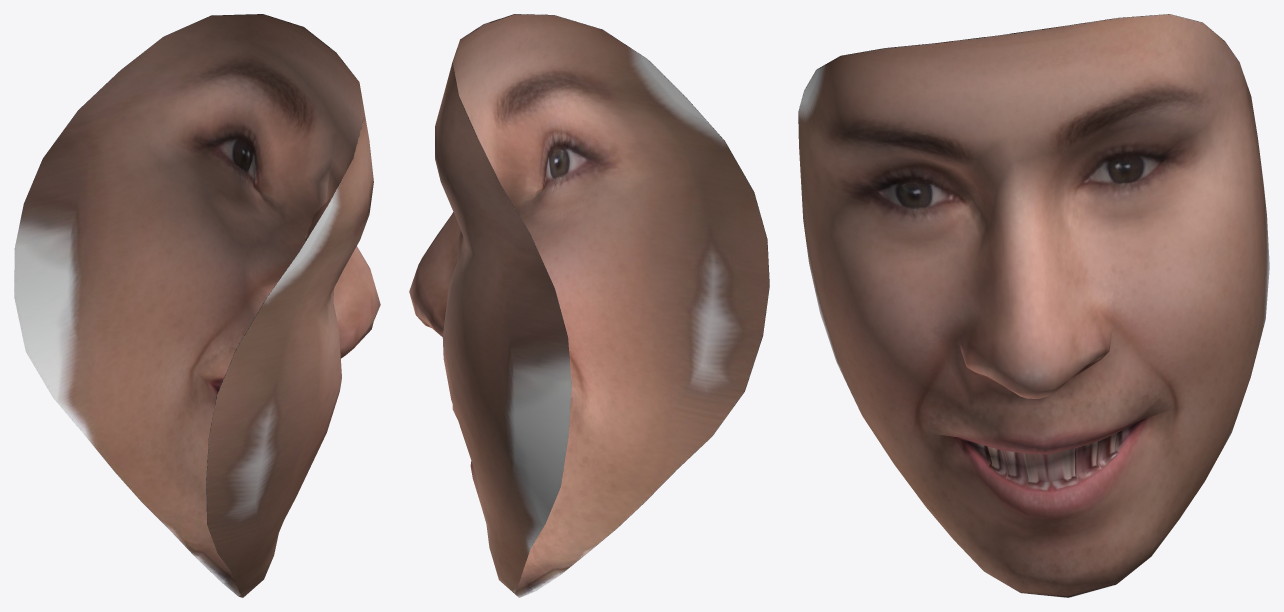
Rendered from youtube_fitness.glb.
3 views of the same model, side by side, from view 1: azimuth 30°, elevation 25°; view 2: azimuth 150°, elevation 25°; view 3: azimuth 270°, elevation 25° (orthographic). The views are drawn at different scales.
Parts seen in each view (by area): view 1: youtube_fitness; view 2: youtube_fitness; view 3: youtube_fitness.
Boxes of the visible parts, x1,y1,x2,y2 form: youtube_fitness: (14,14,380,597); youtube_fitness: (409,14,769,597); youtube_fitness: (798,14,1269,597).
Size of the model in its own units: 0.4525 by 0.8902 by 0.6174.
Materials: 1 (1 with a texture image).
